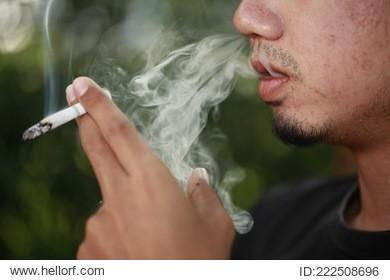Cigarette: (24, 89, 113, 140)
Smoke: (105, 37, 266, 232)
